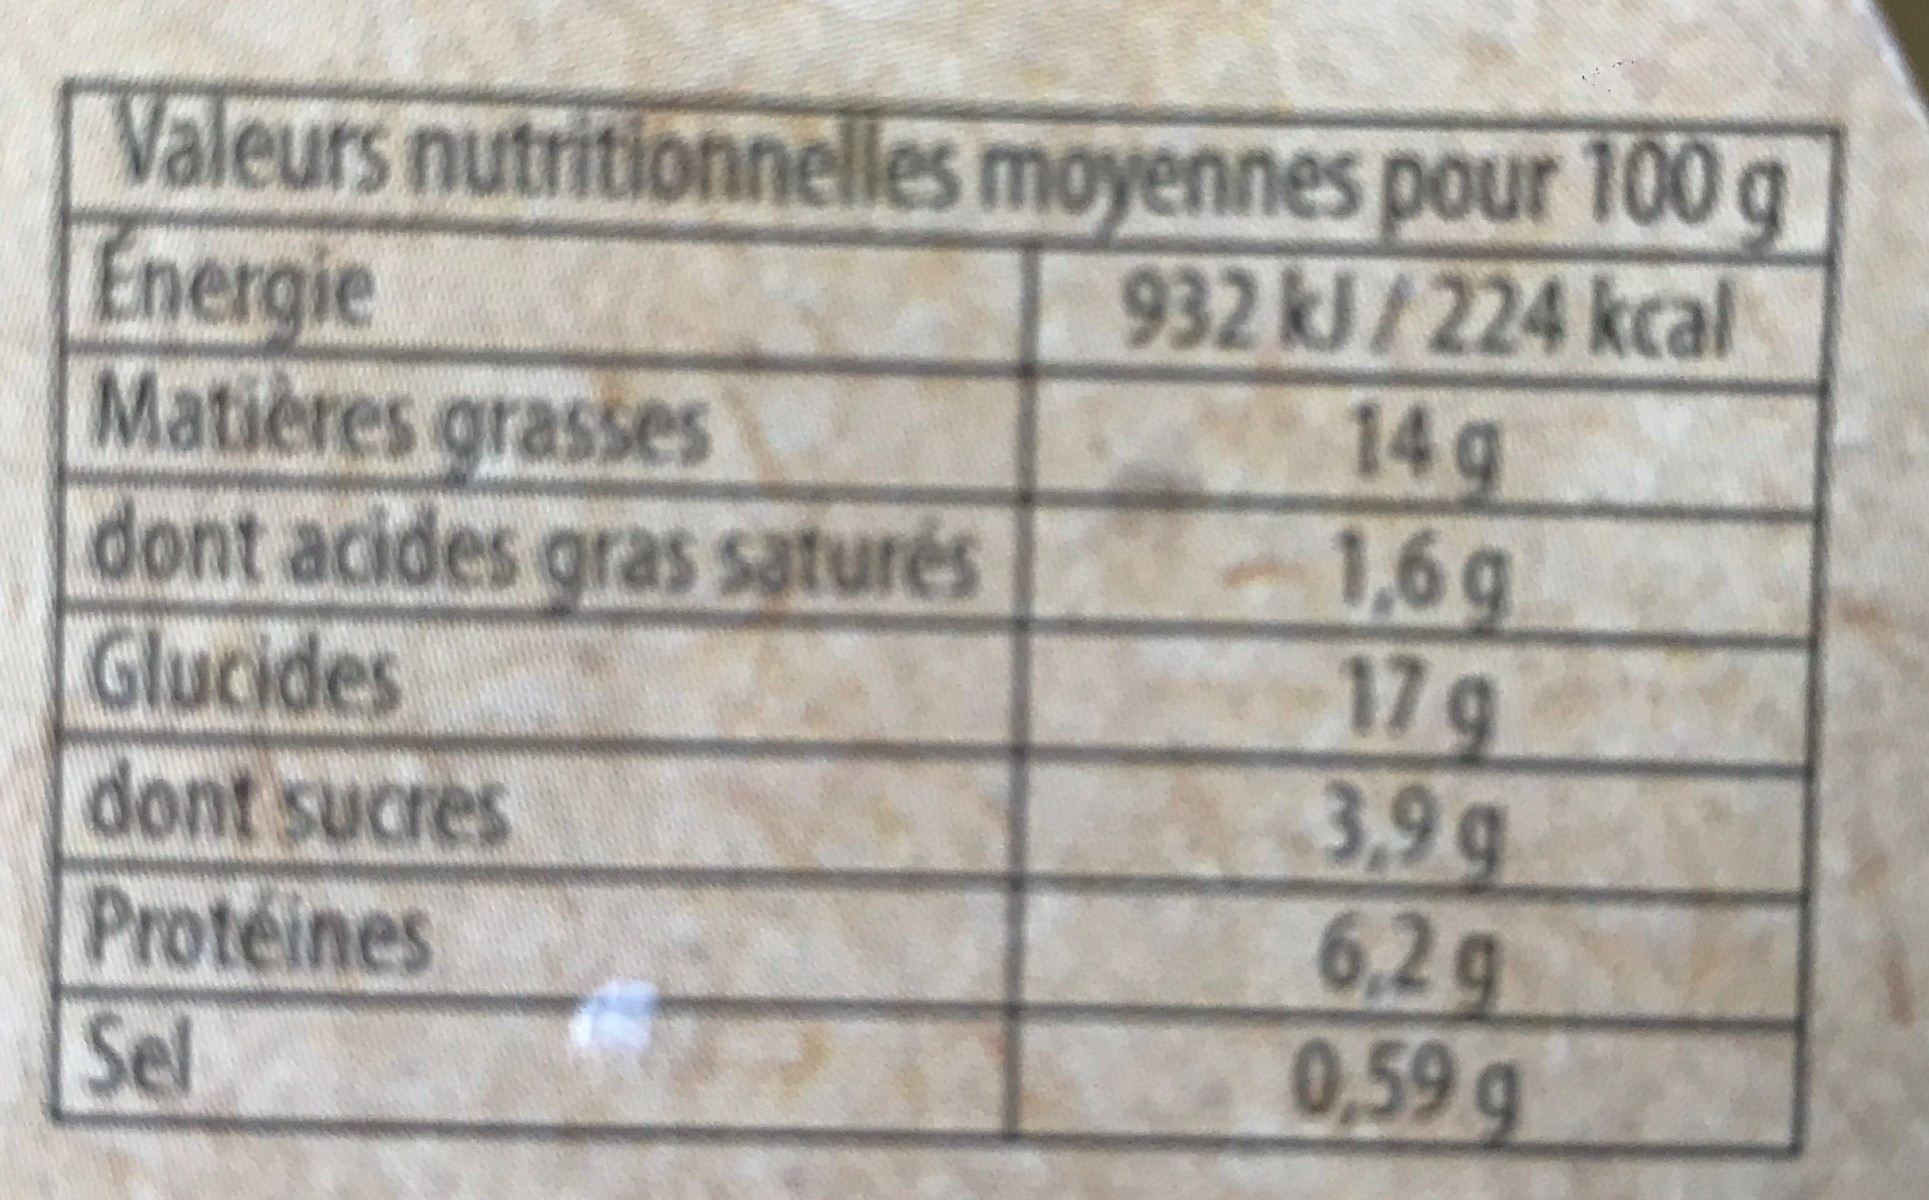column: (35, 202, 1009, 1142), (1047, 229, 1787, 1143)
table: (61, 77, 1805, 1161)
